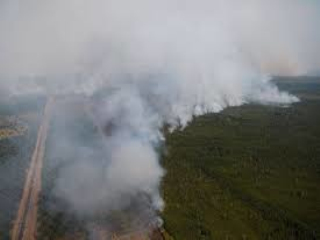smoke: (13, 9, 293, 113), (73, 94, 204, 228), (148, 24, 308, 119)
